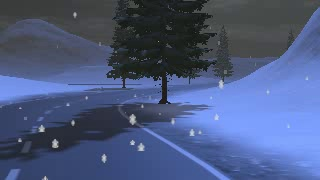Lane: (0, 83, 230, 179)
